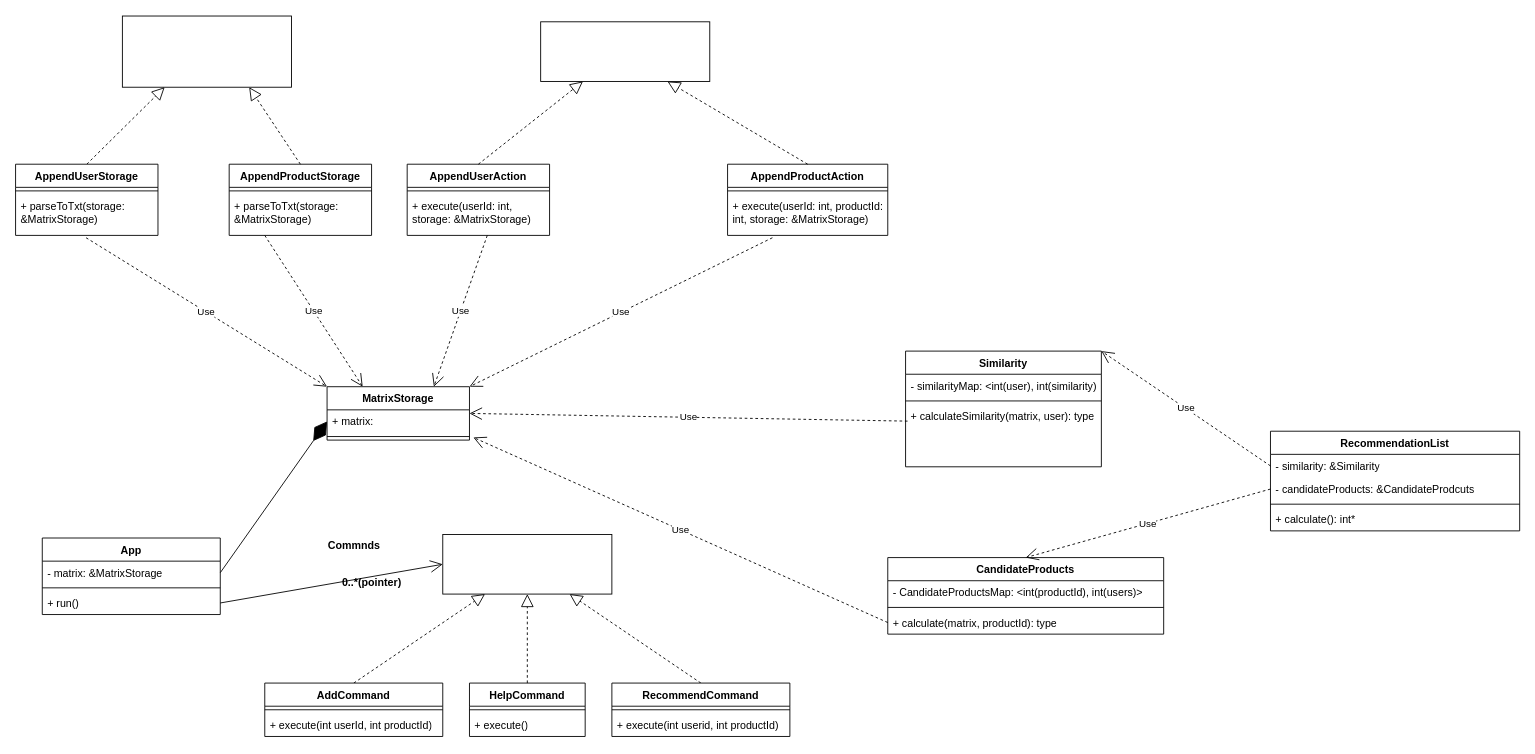
Image size: 1535x754. Some labels were removed from this diagram. Here are the shapes that lost their labels. From the top down, the centre of each, then its label:
At point (206, 51): "<<Interface>> IDataStorage + parseToTxt()".
At point (625, 51): "<<Interface>> IDataAction + execute()".
At point (527, 564): "<<Interface>> ICommand + execute()".
